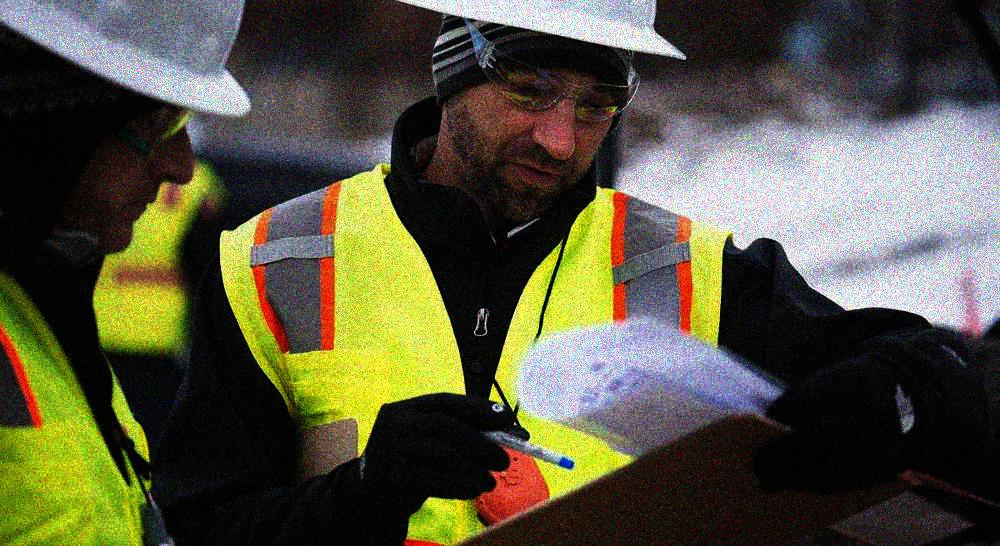helmet: (1, 5, 255, 256), (396, 1, 687, 212)
